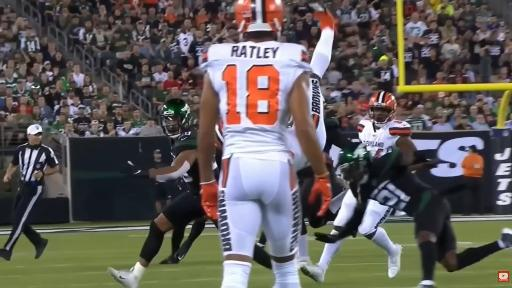Helmet: (235, 0, 283, 33), (338, 144, 372, 181), (160, 99, 191, 138), (368, 91, 396, 125), (215, 118, 226, 150)
Jersey: (202, 41, 310, 160), (350, 148, 432, 216), (358, 120, 411, 157), (285, 115, 310, 170), (174, 127, 197, 156), (406, 117, 428, 130)
Player: (199, 0, 331, 287), (340, 145, 511, 287), (108, 99, 205, 287), (308, 4, 335, 147), (358, 92, 415, 157)
